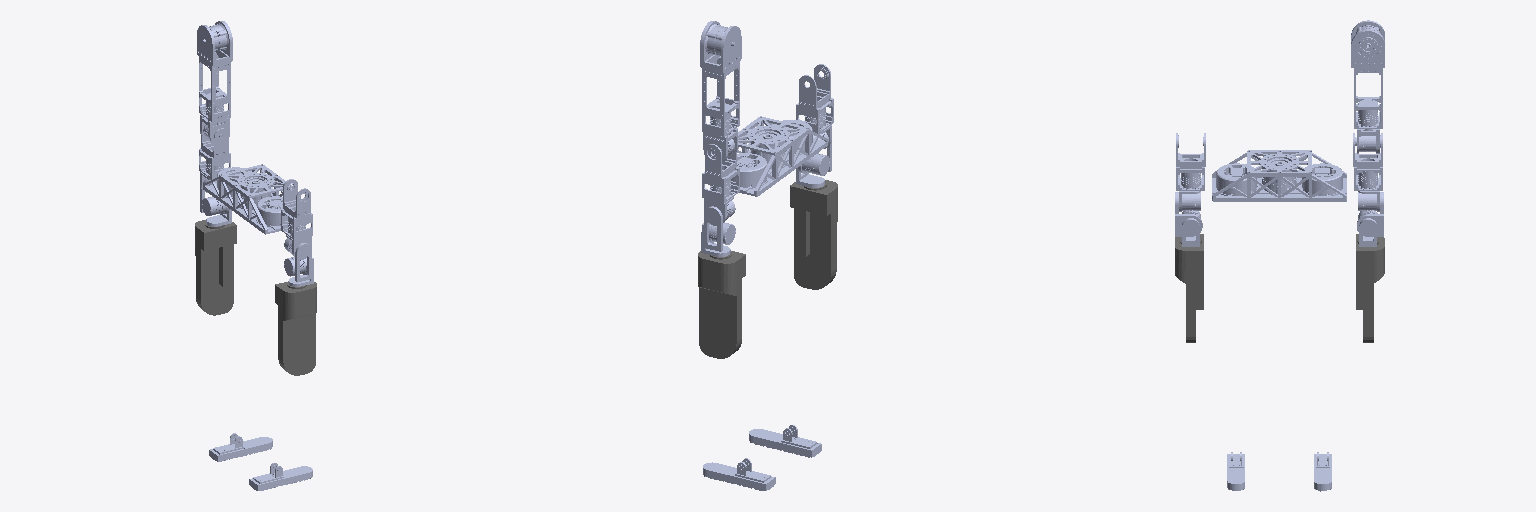
--- Facts derived from the render (not from the file) ---
Views: 3 orthographic renders of the robot side by side, from view 1: azimuth 30°, elevation 25°; view 2: azimuth 150°, elevation 25°; view 3: azimuth 270°, elevation 25°.
Robot: wholebody_7_dof_arm — 28 links, 27 joints (25 revolute, 2 fixed); root link pelvis; default pose: every joint at zero.
Links seen in each view (by area): view 1: pelvis, lhand, rhand, lsr, rep, lep, lap, rap, rwp; view 2: pelvis, rhand, lhand, lsr, rep, lep, rap, lap, lwp, lsy, rwp; view 3: pelvis, lsr, lhand, rhand, lep, rep, lap, rap, lsy.
Link boxes in pixels (left/top/right/bottom): pelvis: left=203, top=164, right=308, bottom=234; lhand: left=195, top=219, right=236, bottom=315; rhand: left=275, top=281, right=316, bottom=375; lsr: left=197, top=21, right=232, bottom=121; rep: left=281, top=179, right=312, bottom=239; lep: left=199, top=128, right=230, bottom=179; lap: left=209, top=433, right=272, bottom=461; rap: left=249, top=463, right=312, bottom=490; rwp: left=284, top=243, right=313, bottom=282; pelvis: left=708, top=116, right=827, bottom=196; rhand: left=790, top=180, right=837, bottom=289; lhand: left=698, top=251, right=745, bottom=358; lsr: left=700, top=21, right=741, bottom=136; rep: left=796, top=64, right=833, bottom=133; lep: left=702, top=144, right=739, bottom=202; rap: left=749, top=425, right=821, bottom=457; lap: left=703, top=458, right=775, bottom=490; lwp: left=702, top=206, right=735, bottom=251; lsy: left=703, top=128, right=737, bottom=162; rwp: left=798, top=142, right=831, bottom=175; pelvis: left=1212, top=150, right=1346, bottom=201; lsr: left=1351, top=20, right=1384, bottom=128; lhand: left=1356, top=234, right=1384, bottom=342; rhand: left=1175, top=234, right=1203, bottom=342; lep: left=1353, top=133, right=1382, bottom=190; rep: left=1176, top=133, right=1205, bottom=190; lap: left=1314, top=452, right=1331, bottom=491; rap: left=1227, top=452, right=1244, bottom=490; lsy: left=1356, top=129, right=1379, bottom=153.
Size in the robot's own frame: 0.2 by 0.58 by 1.36 metres.
Meshes: 28 distinct files referenced, 15 mesh visuals loaded (15 binary STL); not drawn: 13 (reference not matched to a file when rendering).

robot.urdf — wholebody_7_dof_arm:
<?xml version="1.0" encoding="utf-8"?>
<!-- This URDF was automatically created by SolidWorks to URDF Exporter! Originally created by Stephen Brawner ([email redacted]) 
     Commit Version: 1.6.0-4-g7f85cfe  Build Version: 1.6.7995.38578
     For more information, please see http://wiki.ros.org/sw_urdf_exporter -->
<robot
  name="wholebody_7_dof_arm">
  <link
    name="pelvis">
    <inertial>
      <origin
        xyz="4.9E-05 6.9E-05 0.031218"
        rpy="0 0 0" />
      <mass
        value="5.326433" />
      <inertia
        ixx="0.052762"
        ixy="3.7E-05"
        ixz="-8E-06"
        iyy="0.010733"
        iyz="-5E-06"
        izz="0.057077" />
    </inertial>
    <visual>
      <origin
        xyz="0 0 0"
        rpy="0 0 0" />
      <geometry>
        <mesh
          filename="meshes/pelvis.STL" />
      </geometry>
      <material
        name="">
        <color
          rgba="0.792156862745098 0.819607843137255 0.933333333333333 1" />
      </material>
    </visual>
    <collision>
      <origin
        xyz="0 0 0"
        rpy="0 0 0" />
      <geometry>
        <mesh
          filename="meshes/pelvis.STL" />
      </geometry>
    </collision>
  </link>
  <link
    name="torso">
    <inertial>
      <origin
        xyz="-0.015965 0 0.229198"
        rpy="0 0 0" />
      <mass
        value="21.311275" />
      <inertia
        ixx="0.411035"
        ixy="0"
        ixz="0.004879"
        iyy="0.320901"
        iyz="-2E-06"
        izz="0.157956" />
    </inertial>
    <visual>
      <origin
        xyz="0 0 0"
        rpy="0 0 0" />
      <geometry>
        <mesh
          filename="meshes/torso.STL" />
      </geometry>
      <material
        name="">
        <color
          rgba="0.792156862745098 0.819607843137255 0.933333333333333 1" />
      </material>
    </visual>
    <collision>
      <origin
        xyz="0 0 0"
        rpy="0 0 0" />
      <geometry>
        <mesh
          filename="meshes/torso.STL" />
      </geometry>
    </collision>
  </link>
  <joint
    name="ty"
    type="revolute">
    <origin
      xyz="0 0 0.0825"
      rpy="0 0 0" />
    <parent
      link="pelvis" />
    <child
      link="torso" />
    <axis
      xyz="0 0 1" />
    <limit
      lower="-0.87"
      upper="0.87"
      effort="100"
      velocity="13" />
  </joint>
  <link
    name="lsp">
    <inertial>
      <origin
        xyz="0.002629 0.044079 0"
        rpy="0 0 0" />
      <mass
        value="0.45064" />
      <inertia
        ixx="0.000741"
        ixy="-5.2E-05"
        ixz="0"
        iyy="0.000897"
        iyz="0"
        izz="0.00118" />
    </inertial>
    <visual>
      <origin
        xyz="0 0 0"
        rpy="0 0 0" />
      <geometry>
        <mesh
          filename="meshes/lsp.STL" />
      </geometry>
      <material
        name="">
        <color
          rgba="0.79216 0.81961 0.93333 1" />
      </material>
    </visual>
    <collision>
      <origin
        xyz="0 0 0"
        rpy="0 0 0" />
      <geometry>
        <mesh
          filename="meshes/lsp.STL" />
      </geometry>
    </collision>
  </link>
  <joint
    name="lsp"
    type="revolute">
    <origin
      xyz="0 0.172 0.3695"
      rpy="0 0 0" />
    <parent
      link="torso" />
    <child
      link="lsp" />
    <axis
      xyz="0 1 0" />
    <limit
      lower="-3.14"
      upper="1.05"
      effort="55"
      velocity="16" />
  </joint>
  <link
    name="lsr">
    <inertial>
      <origin
        xyz="0.001469 -7E-05 -0.079989"
        rpy="0 0 0" />
      <mass
        value="2.002576" />
      <inertia
        ixx="0.020339"
        ixy="4E-06"
        ixz="-0.000225"
        iyy="0.020072"
        iyz="-4.8E-05"
        izz="0.002315" />
    </inertial>
    <visual>
      <origin
        xyz="0 0 0"
        rpy="0 0 0" />
      <geometry>
        <mesh
          filename="meshes/lsr.STL" />
      </geometry>
      <material
        name="">
        <color
          rgba="0.792156862745098 0.819607843137255 0.933333333333333 1" />
      </material>
    </visual>
    <collision>
      <origin
        xyz="0 0 0"
        rpy="0 0 0" />
      <geometry>
        <mesh
          filename="meshes/lsr.STL" />
      </geometry>
    </collision>
  </link>
  <joint
    name="lsr"
    type="revolute">
    <origin
      xyz="0 0.072 0"
      rpy="0 0 0" />
    <parent
      link="lsp" />
    <child
      link="lsr" />
    <axis
      xyz="1 0 0" />
    <limit
      lower="-0.087"
      upper="2.62"
      effort="55"
      velocity="16" />
  </joint>
  <link
    name="lsy">
    <inertial>
      <origin
        xyz="4.8E-05 0.00162 -0.045384"
        rpy="0 0 0" />
      <mass
        value="0.608514" />
      <inertia
        ixx="0.000608"
        ixy="0"
        ixz="0"
        iyy="0.00049"
        iyz="2E-06"
        izz="0.000483" />
    </inertial>
    <visual>
      <origin
        xyz="0 0 0"
        rpy="0 0 0" />
      <geometry>
        <mesh
          filename="meshes/lsy.STL" />
      </geometry>
      <material
        name="">
        <color
          rgba="0.792156862745098 0.819607843137255 0.933333333333333 1" />
      </material>
    </visual>
    <collision>
      <origin
        xyz="0 0 0"
        rpy="0 0 0" />
      <geometry>
        <mesh
          filename="meshes/lsy.STL" />
      </geometry>
    </collision>
  </link>
  <joint
    name="lsy"
    type="revolute">
    <origin
      xyz="0 0 -0.2505"
      rpy="0 0 0" />
    <parent
      link="lsr" />
    <child
      link="lsy" />
    <axis
      xyz="0 0 1" />
    <limit
      lower="-1.57"
      upper="1.57"
      effort="30"
      velocity="8.5" />
  </joint>
  <link
    name="lep">
    <inertial>
      <origin
        xyz="0.000176 -0.000163 -0.08691"
        rpy="0 0 0" />
      <mass
        value="0.83334" />
      <inertia
        ixx="0.001632"
        ixy="1E-06"
        ixz="0"
        iyy="0.001305"
        iyz="2E-06"
        izz="0.000822" />
    </inertial>
    <visual>
      <origin
        xyz="0 0 0"
        rpy="0 0 0" />
      <geometry>
        <mesh
          filename="meshes/lep.STL" />
      </geometry>
      <material
        name="">
        <color
          rgba="0.792156862745098 0.819607843137255 0.933333333333333 1" />
      </material>
    </visual>
    <collision>
      <origin
        xyz="0 0 0"
        rpy="0 0 0" />
      <geometry>
        <mesh
          filename="meshes/lep.STL" />
      </geometry>
    </collision>
  </link>
  <joint
    name="lep"
    type="revolute">
    <origin
      xyz="0 0 -0.0545"
      rpy="0 0 0" />
    <parent
      link="lsy" />
    <child
      link="lep" />
    <axis
      xyz="0 1 0" />
    <limit
      lower="-1.9"
      upper="1.05"
      effort="30"
      velocity="8.5" />
  </joint>
  <link
    name="lwy">
    <inertial>
      <origin
        xyz="6.2E-05 0.005611 -0.039379"
        rpy="0 0 0" />
      <mass
        value="0.468609" />
      <inertia
        ixx="0.00037"
        ixy="1E-06"
        ixz="0"
        iyy="0.000308"
        iyz="-9E-06"
        izz="0.000298" />
    </inertial>
    <visual>
      <origin
        xyz="0 0 0"
        rpy="0 0 0" />
      <geometry>
        <mesh
          filename="meshes/lwy.STL" />
      </geometry>
      <material
        name="">
        <color
          rgba="0.792156862745098 0.819607843137255 0.933333333333333 1" />
      </material>
    </visual>
    <collision>
      <origin
        xyz="0 0 0"
        rpy="0 0 0" />
      <geometry>
        <mesh
          filename="meshes/lwy.STL" />
      </geometry>
    </collision>
  </link>
  <joint
    name="lwy"
    type="revolute">
    <origin
      xyz="0 0 -0.134"
      rpy="0 0 0" />
    <parent
      link="lep" />
    <child
      link="lwy" />
    <axis
      xyz="0 0 1" />
    <limit
      lower="-1.57"
      upper="1.57"
      effort="30"
      velocity="8.5" />
  </joint>
  <link
    name="lwp">
    <inertial>
      <origin
        xyz="0.005443 0.009592 -0.05625"
        rpy="0 0 0" />
      <mass
        value="0.528567" />
      <inertia
        ixx="0.000598"
        ixy="3E-06"
        ixz="1.2E-05"
        iyy="0.00056"
        iyz="-0.000105"
        izz="0.000443" />
    </inertial>
    <visual>
      <origin
        xyz="0 0 0"
        rpy="0 0 0" />
      <geometry>
        <mesh
          filename="meshes/lwp.STL" />
      </geometry>
      <material
        name="">
        <color
          rgba="0.792156862745098 0.819607843137255 0.933333333333333 1" />
      </material>
    </visual>
    <collision>
      <origin
        xyz="0 0 0"
        rpy="0 0 0" />
      <geometry>
        <mesh
          filename="meshes/lwp.STL" />
      </geometry>
    </collision>
  </link>
  <joint
    name="lwp"
    type="revolute">
    <origin
      xyz="0 0 -0.045"
      rpy="0 0 0" />
    <parent
      link="lwy" />
    <child
      link="lwp" />
    <axis
      xyz="0 1 0" />
    <limit
      lower="-1.57"
      upper="1.57"
      effort="30"
      velocity="8.5" />
  </joint>
  <link
    name="lwr">
    <inertial>
      <origin
        xyz="0.02469 0 -0.032424"
        rpy="0 0 0" />
      <mass
        value="0.173919" />
      <inertia
        ixx="0.000149"
        ixy="0"
        ixz="-4.9E-05"
        iyy="0.000177"
        iyz="0"
        izz="9.7E-05" />
    </inertial>
    <visual>
      <origin
        xyz="0 0 0"
        rpy="0 0 0" />
      <geometry>
        <mesh
          filename="meshes/lwr.STL" />
      </geometry>
      <material
        name="">
        <color
          rgba="0.792156862745098 0.819607843137255 0.933333333333333 1" />
      </material>
    </visual>
    <collision>
      <origin
        xyz="0 0 0"
        rpy="0 0 0" />
      <geometry>
        <mesh
          filename="meshes/lwr.STL" />
      </geometry>
    </collision>
  </link>
  <joint
    name="lwr"
    type="revolute">
    <origin
      xyz="0 0 -0.0625"
      rpy="0 0 0" />
    <parent
      link="lwp" />
    <child
      link="lwr" />
    <axis
      xyz="-1 0 0" />
    <limit
      lower="-0.52"
      upper="0.52"
      effort="30"
      velocity="8.5" />
  </joint>
  <link
    name="lhand">
    <inertial>
      <origin
        xyz="0.001615 0.00171 0.034691"
        rpy="0 0 0" />
      <mass
        value="1.3" />
      <inertia
        ixx="0.009216"
        ixy="4E-05"
        ixz="0.000123"
        iyy="0.010051"
        iyz="-0.000238"
        izz="0.001644" />
    </inertial>
    <visual>
      <origin
        xyz="0 0 0"
        rpy="0 0 0" />
      <geometry>
        <mesh
          filename="meshes/lhand.STL" />
      </geometry>
      <material
        name="">
        <color
          rgba="0.501960784313725 0.501960784313725 0.501960784313725 1" />
      </material>
    </visual>
    <collision>
      <origin
        xyz="0 0 0"
        rpy="0 0 0" />
      <geometry>
        <mesh
          filename="meshes/lhand.STL" />
      </geometry>
    </collision>
  </link>
  <joint
    name="lh"
    type="fixed">
    <origin
      xyz="0 0 -0.209"
      rpy="0 0 0" />
    <parent
      link="lwr" />
    <child
      link="lhand" />
    <axis
      xyz="0 0 0" />
  </joint>
  <link
    name="rsp">
    <inertial>
      <origin
        xyz="0.002629 -0.044079 0"
        rpy="0 0 0" />
      <mass
        value="0.45064" />
      <inertia
        ixx="0.000741"
        ixy="5.2E-05"
        ixz="0"
        iyy="0.000897"
        iyz="0"
        izz="0.00118" />
    </inertial>
    <visual>
      <origin
        xyz="0 0 0"
        rpy="0 0 0" />
      <geometry>
        <mesh
          filename="meshes/rsp.STL" />
      </geometry>
      <material
        name="">
        <color
          rgba="0.79216 0.81961 0.93333 1" />
      </material>
    </visual>
    <collision>
      <origin
        xyz="0 0 0"
        rpy="0 0 0" />
      <geometry>
        <mesh
          filename="meshes/rsp.STL" />
      </geometry>
    </collision>
  </link>
  <joint
    name="rsp"
    type="revolute">
    <origin
      xyz="0 -0.172 0.3695"
      rpy="0 0 0" />
    <parent
      link="torso" />
    <child
      link="rsp" />
    <axis
      xyz="0 1 0" />
    <limit
      lower="-3.14"
      upper="1.05"
      effort="55"
      velocity="16" />
  </joint>
  <link
    name="rsr">
    <inertial>
      <origin
        xyz="0.001469 -7E-05 -0.079989"
        rpy="0 0 0" />
      <mass
        value="2.002576" />
      <inertia
        ixx="0.020339"
        ixy="4E-06"
        ixz="-0.000225"
        iyy="0.020072"
        iyz="-4.8E-05"
        izz="0.002315" />
    </inertial>
    <visual>
      <origin
        xyz="0 0 0"
        rpy="0 0 0" />
      <geometry>
        <mesh
          filename="meshes/rsr.STL" />
      </geometry>
      <material
        name="">
        <color
          rgba="0.792156862745098 0.819607843137255 0.933333333333333 1" />
      </material>
    </visual>
    <collision>
      <origin
        xyz="0 0 0"
        rpy="0 0 0" />
      <geometry>
        <mesh
          filename="meshes/rsr.STL" />
      </geometry>
    </collision>
  </link>
  <joint
    name="rsr"
    type="revolute">
    <origin
      xyz="0 -0.072 0"
      rpy="0 0 0" />
    <parent
      link="rsp" />
    <child
      link="rsr" />
    <axis
      xyz="1 0 0" />
    <limit
      lower="-2.62"
      upper="0.087"
      effort="55"
      velocity="16" />
  </joint>
  <link
    name="rsy">
    <inertial>
      <origin
        xyz="-4.8E-05 -0.00162 -0.045384"
        rpy="0 0 0" />
      <mass
        value="0.608514" />
      <inertia
        ixx="0.000608"
        ixy="0"
        ixz="0"
        iyy="0.00049"
        iyz="-2E-06"
        izz="0.000483" />
    </inertial>
    <visual>
      <origin
        xyz="0 0 0"
        rpy="0 0 0" />
      <geometry>
        <mesh
          filename="meshes/rsy.STL" />
      </geometry>
      <material
        name="">
        <color
          rgba="0.792156862745098 0.819607843137255 0.933333333333333 1" />
      </material>
    </visual>
    <collision>
      <origin
        xyz="0 0 0"
        rpy="0 0 0" />
      <geometry>
        <mesh
          filename="meshes/rsy.STL" />
      </geometry>
    </collision>
  </link>
  <joint
    name="rsy"
    type="revolute">
    <origin
      xyz="0 0 -0.2505"
      rpy="0 0 0" />
    <parent
      link="rsr" />
    <child
      link="rsy" />
    <axis
      xyz="0 0 1" />
    <limit
      lower="-1.57"
      upper="1.57"
      effort="30"
      velocity="8.5" />
  </joint>
  <link
    name="rep">
    <inertial>
      <origin
        xyz="-0.000176 0.000163 -0.08691"
        rpy="0 0 0" />
      <mass
        value="0.833343" />
      <inertia
        ixx="0.001632"
        ixy="1E-06"
        ixz="0"
        iyy="0.001305"
        iyz="-2E-06"
        izz="0.000822" />
    </inertial>
    <visual>
      <origin
        xyz="0 0 0"
        rpy="0 0 0" />
      <geometry>
        <mesh
          filename="meshes/rep.STL" />
      </geometry>
      <material
        name="">
        <color
          rgba="0.792156862745098 0.819607843137255 0.933333333333333 1" />
      </material>
    </visual>
    <collision>
      <origin
        xyz="0 0 0"
        rpy="0 0 0" />
      <geometry>
        <mesh
          filename="meshes/rep.STL" />
      </geometry>
    </collision>
  </link>
  <joint
    name="rep"
    type="revolute">
    <origin
      xyz="0 0 -0.0545"
      rpy="0 0 0" />
    <parent
      link="rsy" />
    <child
      link="rep" />
    <axis
      xyz="0 1 0" />
    <limit
      lower="-1.9"
      upper="1.05"
      effort="30"
      velocity="8.5" />
  </joint>
  <link
    name="rwy">
    <inertial>
      <origin
        xyz="-6.2E-05 -0.005611 -0.039379"
        rpy="0 0 0" />
      <mass
        value="0.468609" />
      <inertia
        ixx="0.00037"
        ixy="1E-06"
        ixz="0"
        iyy="0.000308"
        iyz="9E-06"
        izz="0.000298" />
    </inertial>
    <visual>
      <origin
        xyz="0 0 0"
        rpy="0 0 0" />
      <geometry>
        <mesh
          filename="meshes/rwy.STL" />
      </geometry>
      <material
        name="">
        <color
          rgba="0.792156862745098 0.819607843137255 0.933333333333333 1" />
      </material>
    </visual>
    <collision>
      <origin
        xyz="0 0 0"
        rpy="0 0 0" />
      <geometry>
        <mesh
          filename="meshes/rwy.STL" />
      </geometry>
    </collision>
  </link>
  <joint
    name="rwy"
    type="revolute">
    <origin
      xyz="0 0 -0.134"
      rpy="0 0 0" />
    <parent
      link="rep" />
    <child
      link="rwy" />
    <axis
      xyz="0 0 1" />
    <limit
      lower="-1.57"
      upper="1.57"
      effort="30"
      velocity="8.5" />
  </joint>
  <link
    name="rwp">
    <inertial>
      <origin
        xyz="0.005443 -0.009592 -0.055147"
        rpy="0 0 0" />
      <mass
        value="0.528567" />
      <inertia
        ixx="0.00059"
        ixy="-3E-06"
        ixz="2.7E-05"
        iyy="0.000553"
        iyz="0.0001"
        izz="0.000443" />
    </inertial>
    <visual>
      <origin
        xyz="0 0 0"
        rpy="0 0 0" />
      <geometry>
        <mesh
          filename="meshes/rwp.STL" />
      </geometry>
      <material
        name="">
        <color
          rgba="0.792156862745098 0.819607843137255 0.933333333333333 1" />
      </material>
    </visual>
    <collision>
      <origin
        xyz="0 0 0"
        rpy="0 0 0" />
      <geometry>
        <mesh
          filename="meshes/rwp.STL" />
      </geometry>
    </collision>
  </link>
  <joint
    name="rwp"
    type="revolute">
    <origin
      xyz="0 0 -0.045"
      rpy="0 0 0" />
    <parent
      link="rwy" />
    <child
      link="rwp" />
    <axis
      xyz="0 1 0" />
    <limit
      lower="-1.57"
      upper="1.57"
      effort="30"
      velocity="8.5" />
  </joint>
  <link
    name="rwr">
    <inertial>
      <origin
        xyz="0.02469 0 -0.032424"
        rpy="0 0 0" />
      <mass
        value="0.173919" />
      <inertia
        ixx="0.000149"
        ixy="0"
        ixz="-4.9E-05"
        iyy="0.000177"
        iyz="0"
        izz="9.7E-05" />
    </inertial>
    <visual>
      <origin
        xyz="0 0 0"
        rpy="0 0 0" />
      <geometry>
        <mesh
          filename="meshes/rwr.STL" />
      </geometry>
      <material
        name="">
        <color
          rgba="0.792156862745098 0.819607843137255 0.933333333333333 1" />
      </material>
    </visual>
    <collision>
      <origin
        xyz="0 0 0"
        rpy="0 0 0" />
      <geometry>
        <mesh
          filename="meshes/rwr.STL" />
      </geometry>
    </collision>
  </link>
  <joint
    name="rwr"
    type="revolute">
    <origin
      xyz="0 0 -0.0625"
      rpy="0 0 0" />
    <parent
      link="rwp" />
    <child
      link="rwr" />
    <axis
      xyz="-1 0 0" />
    <limit
      lower="-0.52"
      upper="0.52"
      effort="30"
      velocity="8.5" />
  </joint>
  <link
    name="rhand">
    <inertial>
      <origin
        xyz="0.001615 -0.00171 0.034691"
        rpy="0 0 0" />
      <mass
        value="1.3" />
      <inertia
        ixx="0.009216"
        ixy="-4E-05"
        ixz="0.000123"
        iyy="0.010051"
        iyz="0.000238"
        izz="0.001644" />
    </inertial>
    <visual>
      <origin
        xyz="0 0 0"
        rpy="0 0 0" />
      <geometry>
        <mesh
          filename="meshes/rhand.STL" />
      </geometry>
      <material
        name="">
        <color
          rgba="0.501960784313725 0.501960784313725 0.501960784313725 1" />
      </material>
    </visual>
    <collision>
      <origin
        xyz="0 0 0"
        rpy="0 0 0" />
      <geometry>
        <mesh
          filename="meshes/rhand.STL" />
      </geometry>
    </collision>
  </link>
  <joint
    name="rh"
    type="fixed">
    <origin
      xyz="0 0 -0.209"
      rpy="0 0 0" />
    <parent
      link="rwr" />
    <child
      link="rhand" />
    <axis
      xyz="0 0 0" />
  </joint>
  <link
    name="lhy">
    <inertial>
      <origin
        xyz="-0.076146 -0.000144 -0.068558"
        rpy="0 0 0" />
      <mass
        value="1.5526184" />
      <inertia
        ixx="0.004624"
        ixy="-1.1E-05"
        ixz="-0.001652"
        iyy="0.005293"
        iyz="-6E-06"
        izz="0.003353" />
    </inertial>
    <visual>
      <origin
        xyz="0 0 0"
        rpy="0 0 0" />
      <geometry>
        <mesh
          filename="meshes/lhy.STL" />
      </geometry>
      <material
        name="">
        <color
          rgba="0.792156862745098 0.819607843137255 0.933333333333333 1" />
      </material>
    </visual>
    <collision>
      <origin
        xyz="0 0 0"
        rpy="0 0 0" />
      <geometry>
        <mesh
          filename="meshes/lhy.STL" />
      </geometry>
    </collision>
  </link>
  <joint
    name="lhy"
    type="revolute">
    <origin
      xyz="0 0.1175 0.0058"
      rpy="0 0 0" />
    <parent
      link="pelvis" />
    <child
      link="lhy" />
    <axis
      xyz="0 0 1" />
    <limit
      lower="-0.79"
      upper="0.61"
      effort="115"
      velocity="22" />
  </joint>
  <link
    name="lhr">
    <inertial>
      <origin
        xyz="0.062812 -0.057927 -0.015123"
        rpy="0 0 0" />
      <mass
        value="1.333254" />
      <inertia
        ixx="0.002186"
        ixy="0.000631"
        ixz="0.00026"
        iyy="0.003313"
        iyz="-0.000174"
        izz="0.002911" />
    </inertial>
    <visual>
      <origin
        xyz="0 0 0"
        rpy="0 0 0" />
      <geometry>
        <mesh
          filename="meshes/lhr.STL" />
      </geometry>
      <material
        name="">
        <color
          rgba="0.792156862745098 0.819607843137255 0.933333333333333 1" />
      </material>
    </visual>
    <collision>
      <origin
        xyz="0 0 0"
        rpy="0 0 0" />
      <geometry>
        <mesh
          filename="meshes/lhr.STL" />
      </geometry>
    </collision>
  </link>
  <joint
    name="lhr"
    type="revolute">
    <origin
      xyz="-0.0733 0 -0.0965"
      rpy="0 0 0" />
    <parent
      link="lhy" />
    <child
      link="lhr" />
    <axis
      xyz="-1 0 0" />
    <limit
      lower="-0.7"
      upper="0.52"
      effort="115"
      velocity="22" />
  </joint>
  <link
    name="lhp">
    <inertial>
      <origin
        xyz="-2E-05 0.050143 -0.086535"
        rpy="0 0 0" />
      <mass
        value="4.91" />
      <inertia
        ixx="0.078865"
        ixy="0"
        ixz="9E-06"
        iyy="0.079352"
        iyz="-0.00221"
        izz="0.009803" />
    </inertial>
    <visual>
      <origin
        xyz="0 0 0"
        rpy="0 0 0" />
      <geometry>
        <mesh
          filename="meshes/lhp.STL" />
      </geometry>
      <material
        name="">
        <color
          rgba="0.792156862745098 0.819607843137255 0.933333333333333 1" />
      </material>
    </visual>
    <collision>
      <origin
        xyz="0 0 0"
        rpy="0 0 0" />
      <geometry>
        <mesh
          filename="meshes/lhp.STL" />
      </geometry>
    </collision>
  </link>
  <joint
    name="lhp"
    type="revolute">
    <origin
      xyz="0.075 -0.0443 -0.0185"
      rpy="0 0 0" />
    <parent
      link="lhr" />
    <child
      link="lhp" />
    <axis
      xyz="0 1 0" />
    <limit
      lower="-2.44"
      upper="0.35"
      effort="115"
      velocity="22" />
  </joint>
  <link
    name="lkp">
    <inertial>
      <origin
        xyz="3.6E-05 0.000712 -0.123699"
        rpy="0 0 0" />
      <mass
        value="1.5" />
      <inertia
        ixx="0.014686"
        ixy="0"
        ixz="-3E-06"
        iyy="0.014996"
        iyz="9E-06"
        izz="0.001006" />
    </inertial>
    <visual>
      <origin
        xyz="0 0 0"
        rpy="0 0 0" />
      <geometry>
        <mesh
          filename="meshes/lkp.STL" />
      </geometry>
      <material
        name="">
        <color
          rgba="0.792156862745098 0.819607843137255 0.933333333333333 1" />
      </material>
    </visual>
    <collision>
      <origin
        xyz="0 0 0"
        rpy="0 0 0" />
      <geometry>
        <mesh
          filename="meshes/lkp.STL" />
      </geometry>
    </collision>
  </link>
  <joint
    name="lkp"
    type="revolute">
    <origin
      xyz="0 0.045966 -0.35"
      rpy="0 0 0" />
    <parent
      link="lhp" />
    <child
      link="lkp" />
    <axis
      xyz="0 1 0" />
    <limit
      lower="-2.09"
      upper="2.09"
      effort="175"
      velocity="22" />
  </joint>
  <link
    name="lap">
    <inertial>
      <origin
        xyz="0.01468 1.4E-05 -0.035597"
        rpy="0 0 0" />
      <mass
        value="0.520141" />
      <inertia
        ixx="0.000142"
        ixy="1E-06"
        ixz="2.6E-05"
        iyy="0.001621"
        iyz="0"
        izz="0.001685" />
    </inertial>
    <visual>
      <origin
        xyz="0 0 0"
        rpy="0 0 0" />
      <geometry>
        <mesh
          filename="meshes/lap.STL" />
      </geometry>
      <material
        name="">
        <color
          rgba="0.792156862745098 0.819607843137255 0.933333333333333 1" />
      </material>
    </visual>
    <collision>
      <origin
        xyz="0 0 0"
        rpy="0 0 0" />
      <geometry>
        <mesh
          filename="meshes/lap.STL" />
      </geometry>
    </collision>
  </link>
  <joint
    name="lap"
    type="revolute">
    <origin
      xyz="0 0 -0.35"
      rpy="0 0 0" />
    <parent
      link="lkp" />
    <child
      link="lap" />
    <axis
      xyz="0 1 0" />
    <limit
      lower="-0.7854"
      upper="0.7854"
      effort="20"
      velocity="15" />
  </joint>
  <link
    name="rhy">
    <inertial>
      <origin
        xyz="0 0 0"
        rpy="0 0 0" />
      <mass
        value="0" />
      <inertia
        ixx="0"
        ixy="0"
        ixz="0"
        iyy="0"
        iyz="0"
        izz="0" />
    </inertial>
    <visual>
      <origin
        xyz="0 0 0"
        rpy="0 0 0" />
      <geometry>
        <mesh
          filename="meshes/rhy.STL" />
      </geometry>
      <material
        name="">
        <color
          rgba="0.792156862745098 0.819607843137255 0.933333333333333 1" />
      </material>
    </visual>
    <collision>
      <origin
        xyz="0 0 0"
        rpy="0 0 0" />
      <geometry>
        <mesh
          filename="meshes/rhy.STL" />
      </geometry>
    </collision>
  </link>
  <joint
    name="rhy"
    type="revolute">
    <origin
      xyz="0 -0.1175 0.0058"
      rpy="0 0 0" />
    <parent
      link="pelvis" />
    <child
      link="rhy" />
    <axis
      xyz="0 0 1" />
    <limit
      lower="-0.61"
      upper="0.79"
      effort="115"
      velocity="22" />
  </joint>
  <link
    name="rhr">
    <inertial>
      <origin
        xyz="0.062812 0.057927 -0.015123"
        rpy="0 0 0" />
      <mass
        value="1.333254" />
      <inertia
        ixx="0.002186"
        ixy="-0.000631"
        ixz="0.00026"
        iyy="0.003313"
        iyz="0.000174"
        izz="0.002911" />
    </inertial>
    <visual>
      <origin
        xyz="0 0 0"
        rpy="0 0 0" />
      <geometry>
        <mesh
          filename="meshes/rhr.STL" />
      </geometry>
      <material
        name="">
        <color
          rgba="0.792156862745098 0.819607843137255 0.933333333333333 1" />
      </material>
    </visual>
    <collision>
      <origin
        xyz="0 0 0"
        rpy="0 0 0" />
      <geometry>
        <mesh
          filename="meshes/rhr.STL" />
      </geometry>
    </collision>
  </link>
  <joint
    name="rhr"
    type="revolute">
    <origin
      xyz="-0.0733 0 -0.0965"
      rpy="0 0 0" />
    <parent
      link="rhy" />
    <child
      link="rhr" />
    <axis
      xyz="-1 0 0" />
    <limit
      lower="-0.52"
      upper="0.7"
      effort="115"
      velocity="22" />
  </joint>
  <link
    name="rhp">
    <inertial>
      <origin
        xyz="2E-05 -0.050143 -0.086535"
        rpy="0 0 0" />
      <mass
        value="4.91" />
      <inertia
        ixx="0.078865"
        ixy="0"
        ixz="-9E-06"
        iyy="0.079352"
        iyz="0.00221"
        izz="0.009803" />
    </inertial>
    <visual>
      <origin
        xyz="0 0 0"
        rpy="0 0 0" />
      <geometry>
        <mesh
          filename="meshes/rhp.STL" />
      </geometry>
      <material
        name="">
        <color
          rgba="0.792156862745098 0.819607843137255 0.933333333333333 1" />
      </material>
    </visual>
    <collision>
      <origin
        xyz="0 0 0"
        rpy="0 0 0" />
      <geometry>
        <mesh
          filename="meshes/rhp.STL" />
      </geometry>
    </collision>
  </link>
  <joint
    name="rhp"
    type="revolute">
    <origin
      xyz="0.075 0.0443 -0.0185"
      rpy="0 0 0" />
    <parent
      link="rhr" />
    <child
      link="rhp" />
    <axis
      xyz="0 1 0" />
    <limit
      lower="-2.44"
      upper="0.35"
      effort="115"
      velocity="22" />
  </joint>
  <link
    name="rkp">
    <inertial>
      <origin
        xyz="-3.6E-05 -0.000712 -0.123699"
        rpy="0 0 0" />
      <mass
        value="1.5" />
      <inertia
        ixx="0.014686"
        ixy="0"
        ixz="3E-06"
        iyy="0.014996"
        iyz="-9E-06"
        izz="0.001006" />
    </inertial>
    <visual>
      <origin
        xyz="0 0 0"
        rpy="0 0 0" />
      <geometry>
        <mesh
          filename="meshes/rkp.STL" />
      </geometry>
      <material
        name="">
        <color
          rgba="0.792156862745098 0.819607843137255 0.933333333333333 1" />
      </material>
    </visual>
    <collision>
      <origin
        xyz="0 0 0"
        rpy="0 0 0" />
      <geometry>
        <mesh
          filename="meshes/rkp.STL" />
      </geometry>
    </collision>
  </link>
  <joint
    name="rkp"
    type="revolute">
    <origin
      xyz="0 -0.045966 -0.35"
      rpy="0 0 0" />
    <parent
      link="rhp" />
    <child
      link="rkp" />
    <axis
      xyz="0 1 0" />
    <limit
      lower="-2.09"
      upper="2.09"
      effort="175"
      velocity="22" />
  </joint>
  <link
    name="rap">
    <inertial>
      <origin
        xyz="0.01468 1.4E-05 -0.035597"
        rpy="0 0 0" />
      <mass
        value="0.520141" />
      <inertia
        ixx="0.000142"
        ixy="1E-06"
        ixz="2.6E-05"
        iyy="0.001621"
        iyz="0"
        izz="0.001685" />
    </inertial>
    <visual>
      <origin
        xyz="0 0 0"
        rpy="0 0 0" />
      <geometry>
        <mesh
          filename="meshes/rap.STL" />
      </geometry>
      <material
        name="">
        <color
          rgba="0.792156862745098 0.819607843137255 0.933333333333333 1" />
      </material>
    </visual>
    <collision>
      <origin
        xyz="0 0 0"
        rpy="0 0 0" />
      <geometry>
        <mesh
          filename="meshes/rap.STL" />
      </geometry>
    </collision>
  </link>
  <joint
    name="rap"
    type="revolute">
    <origin
      xyz="0 0 -0.35"
      rpy="0 0 0" />
    <parent
      link="rkp" />
    <child
      link="rap" />
    <axis
      xyz="0 1 0" />
    <limit
      lower="-0.7854"
      upper="0.7854"
      effort="20"
      velocity="15" />
  </joint>
</robot>
